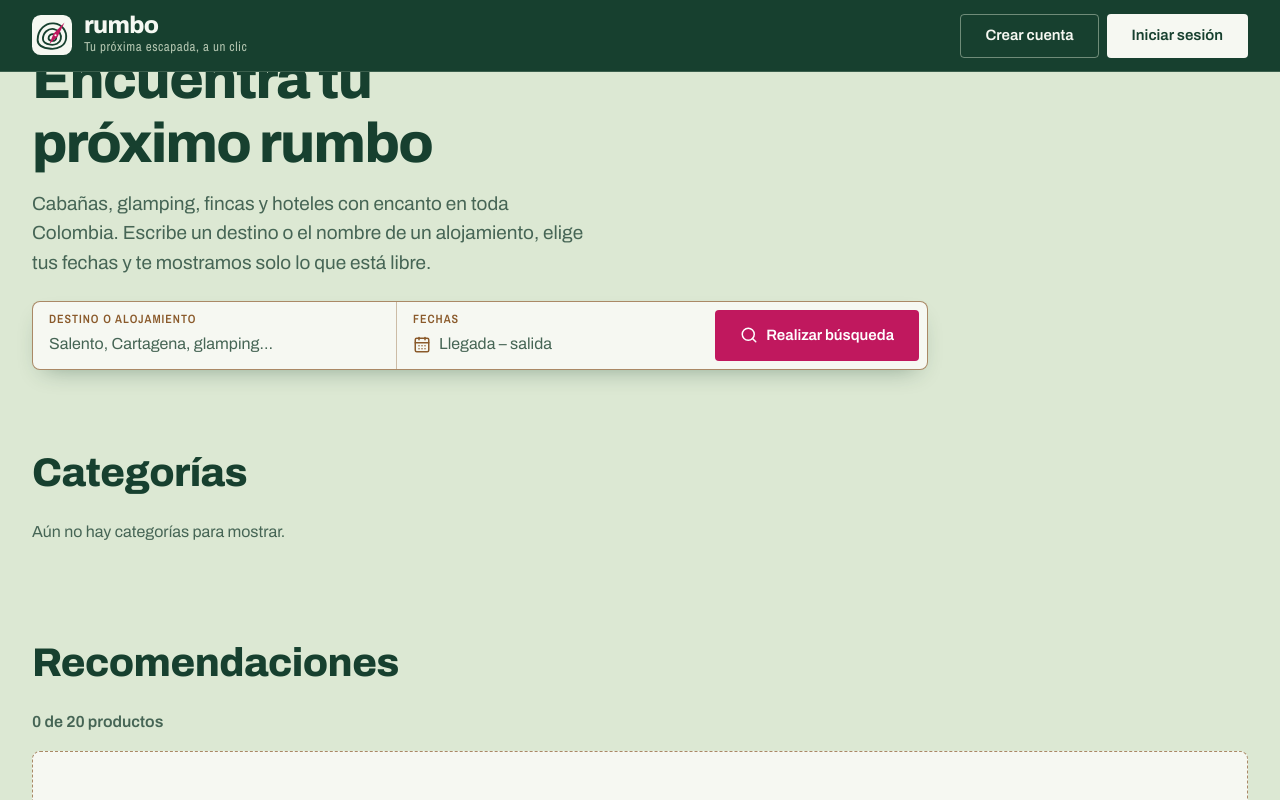
it: Search (#22) › sends the dates picked on the double calendar
Click the button named "Fechas": [552, 345] box [413,329,691,361]
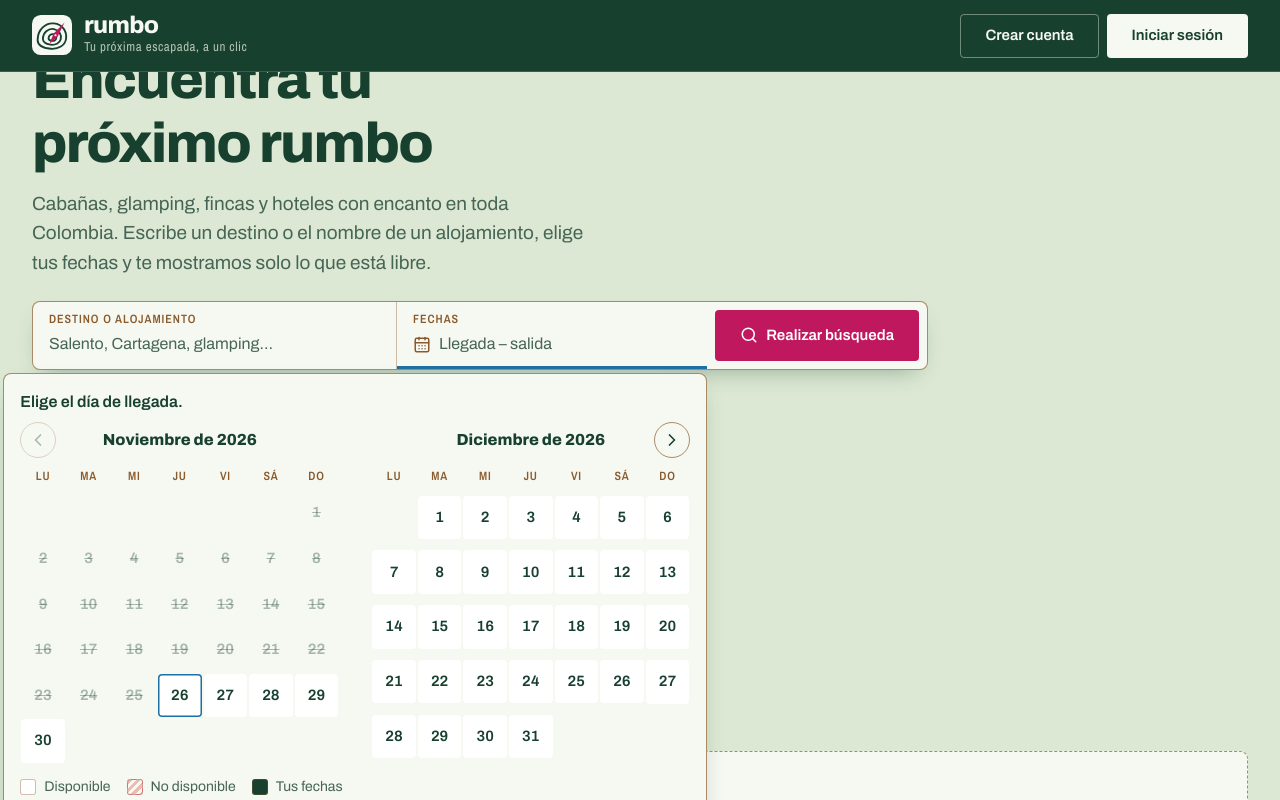
Click the button named "disponible": [225, 695] box [204,674,247,717]
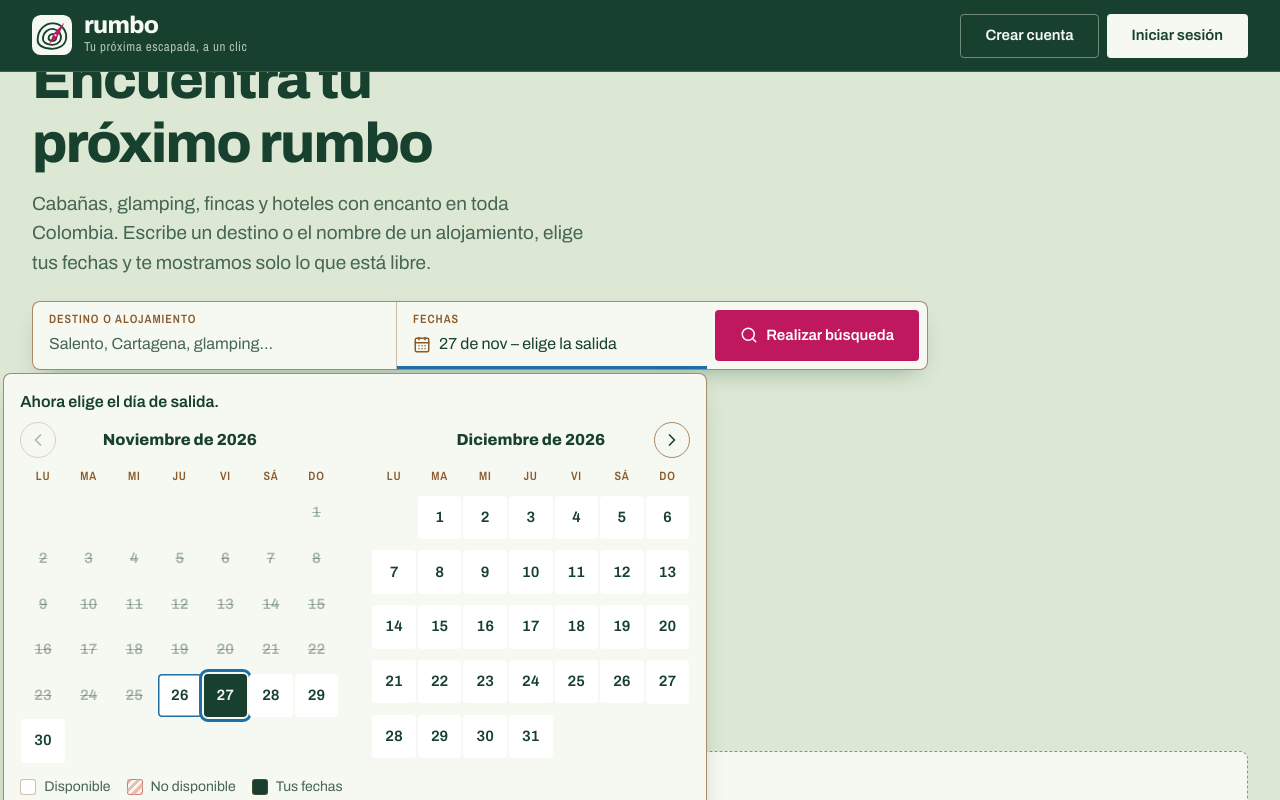
Click the button named "disponible": [43, 741] box [21,719,65,763]
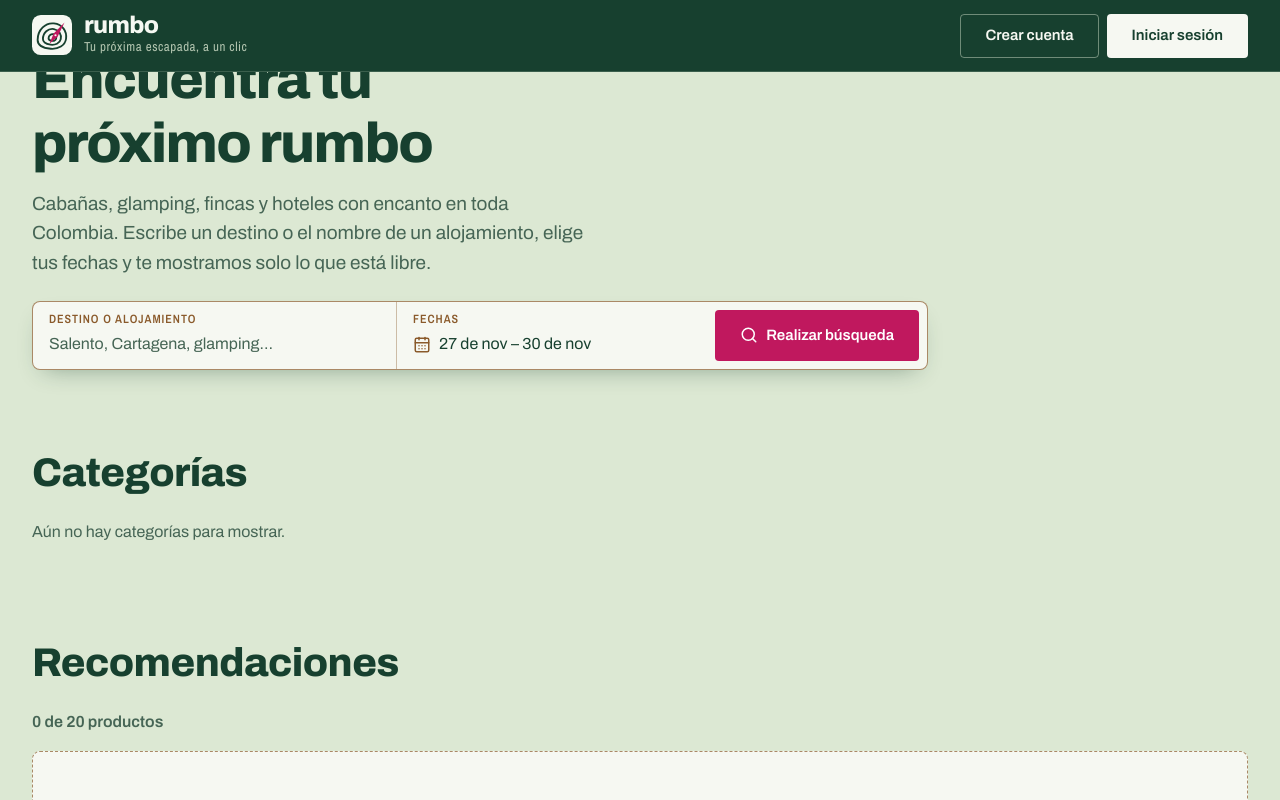
Click the button "Realizar búsqueda": [817, 335] box [715,310,919,361]
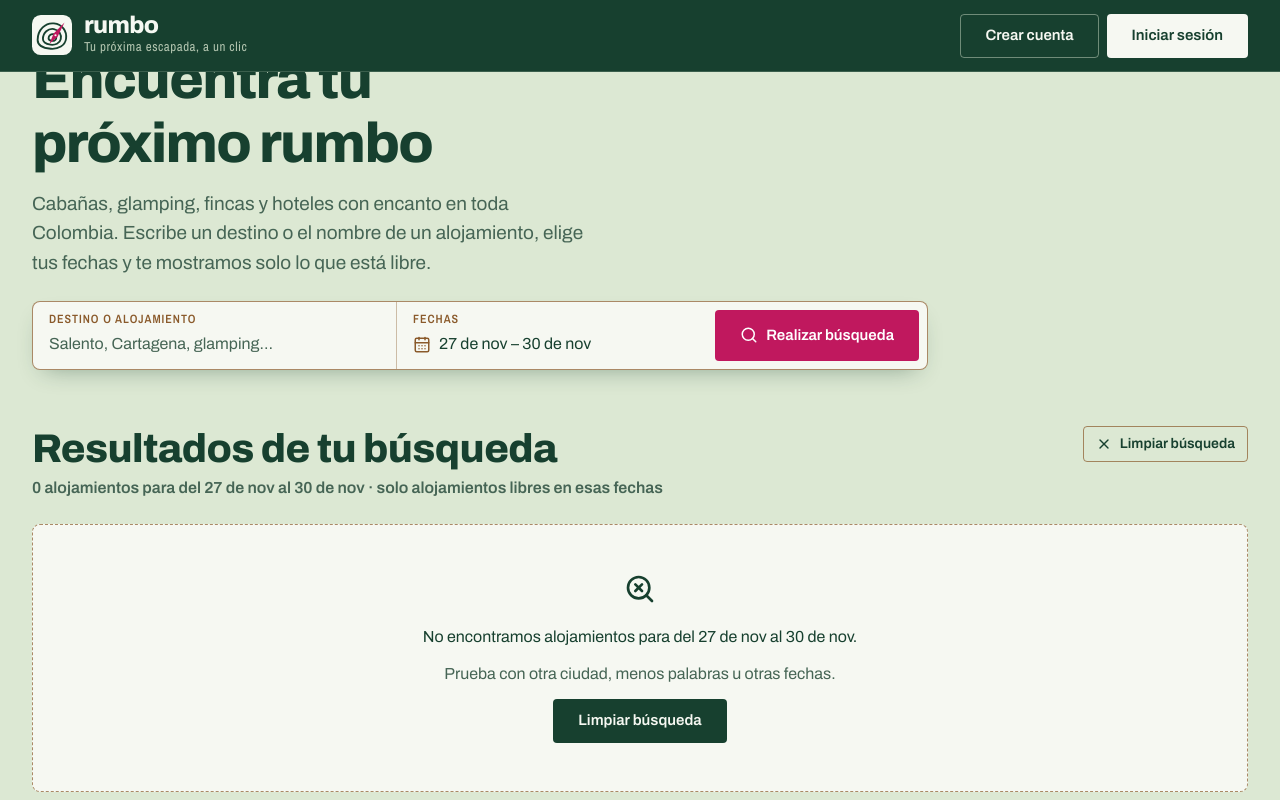
Expected: the text "No encontramos alojamientos para del 27 de nov al 30 de nov." is shown, [423,628,857,645]
